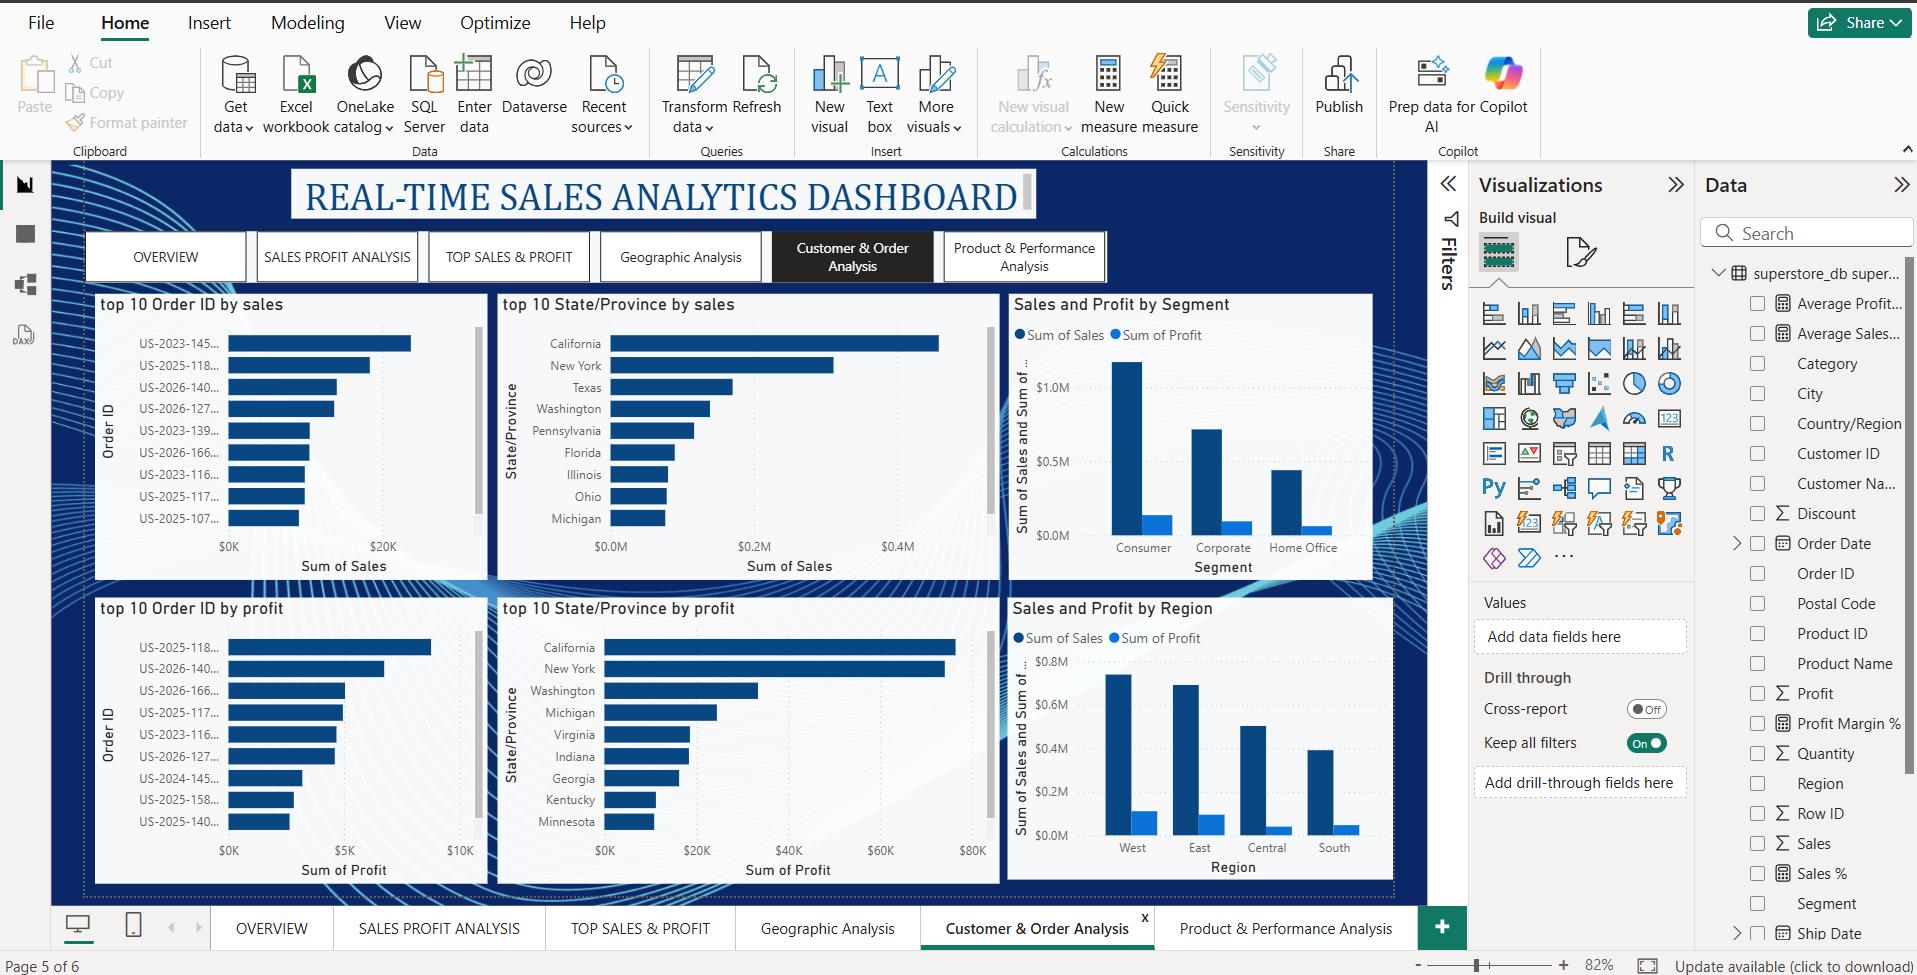

What the dashboard file says about the page in this screenshot:
{"tool":"powerbi","page":{"name":"Customer & Order Analysis","canvas":[1280,720],"ordinal":4},"visuals":[{"type":"clusteredColumnChart","title":"Sales and Profit by Region","fields":{"Category":["superstore_db superstore.Region"],"Y":["Sum(superstore_db superstore.Sales)","Sum(superstore_db superstore.Profit)"]},"box":[902.5,428,377.9,276.4],"z":0},{"type":"clusteredBarChart","title":"top 10 State/Province by sales","fields":{"Category":["superstore_db superstore.State/Province"],"Y":["Sum(superstore_db superstore.Sales)"]},"box":[403.5,130.8,491.6,280],"z":1000},{"type":"clusteredBarChart","title":"top 10 State/Province by profit","fields":{"Category":["superstore_db superstore.State/Province"],"Y":["Sum(superstore_db superstore.Profit)"]},"box":[403.5,428,491.6,280],"z":2000},{"type":"clusteredBarChart","title":"top 10 Order ID by profit","fields":{"Category":["superstore_db superstore.Order ID"],"Y":["Sum(superstore_db superstore.Profit)"]},"box":[9.8,428,384,280],"z":3000},{"type":"clusteredBarChart","title":"top 10 Order ID by sales","fields":{"Category":["superstore_db superstore.Order ID"],"Y":["Sum(superstore_db superstore.Sales)"]},"box":[9.8,130.8,384,280],"z":4000},{"type":"clusteredColumnChart","title":"Sales and Profit by Segment","fields":{"Category":["superstore_db superstore.Segment"],"Y":["Sum(superstore_db superstore.Sales)","Sum(superstore_db superstore.Profit)"]},"box":[903.7,130.8,355.8,280],"z":5000},{"type":"textbox","box":[201.8,8.6,728.8,48.9],"z":6000},{"type":"pageNavigator","box":[0,69.7,1000.3,50.1],"z":6001}]}

Visuals, with their boxes on the page's 1280x720 design canvas (x1, y1, x2, y2). These are canvas units, not pixel positions in the 1917x975 screenshot, which may show the page scaled, cropped or inside an application window:
"Sales and Profit by Region" clusteredColumnChart: locate(902, 428, 1280, 704)
"top 10 State/Province by sales" clusteredBarChart: locate(404, 131, 895, 411)
"top 10 State/Province by profit" clusteredBarChart: locate(404, 428, 895, 708)
"top 10 Order ID by profit" clusteredBarChart: locate(10, 428, 394, 708)
"top 10 Order ID by sales" clusteredBarChart: locate(10, 131, 394, 411)
"Sales and Profit by Segment" clusteredColumnChart: locate(904, 131, 1260, 411)
textbox: locate(202, 9, 931, 58)
pageNavigator: locate(0, 70, 1000, 120)
